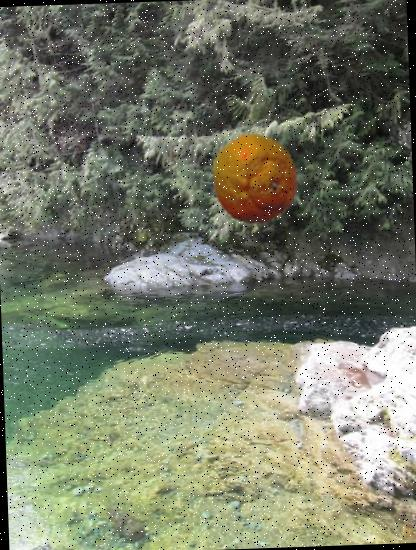Mandarine: (208, 133, 302, 227)
